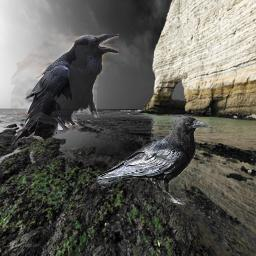Crow: (11, 34, 119, 146), (94, 114, 210, 205)
